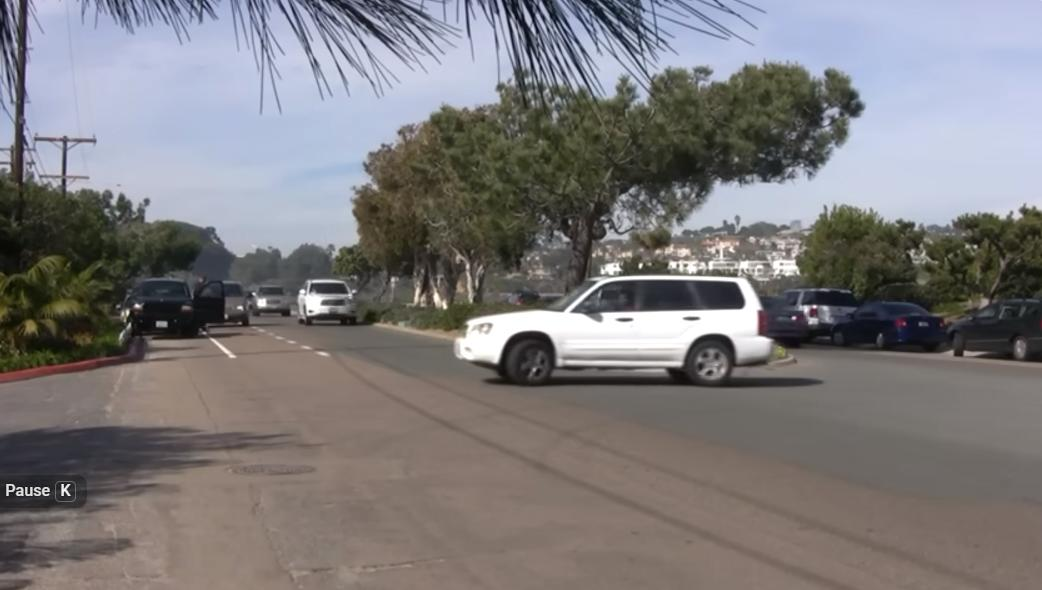car: (476, 273, 817, 421), (130, 265, 234, 364), (861, 294, 958, 400)
